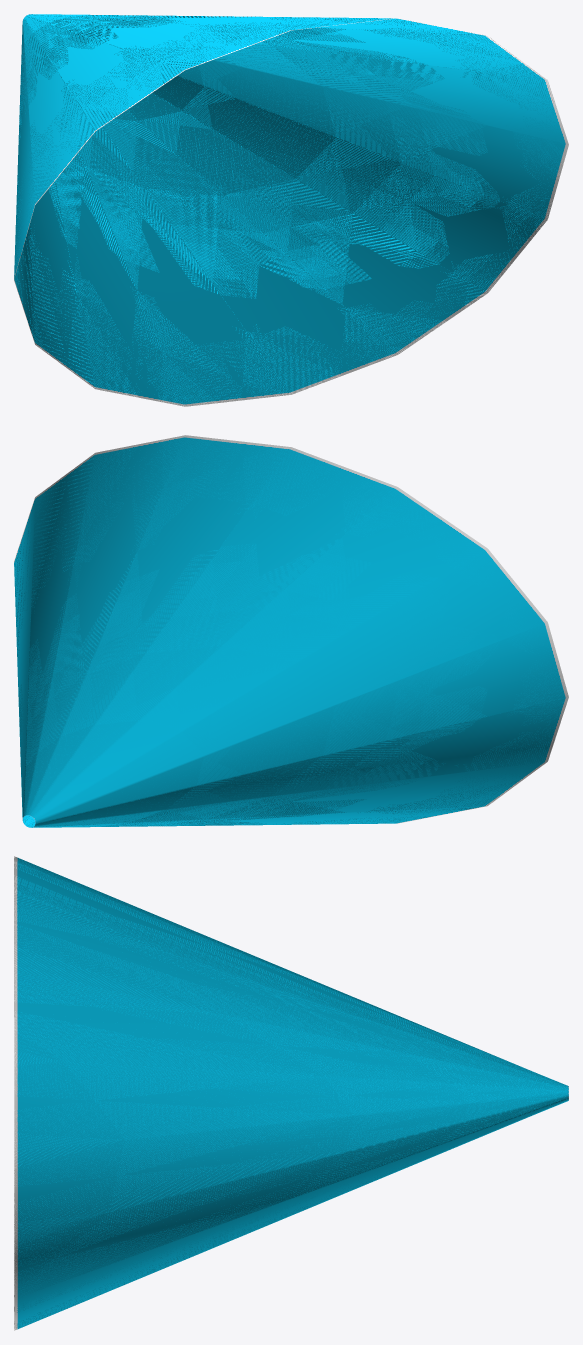
Rendered from Beam.fbx.
The picture shows the model from 3 angles, top to bottom: view 1: azimuth 30°, elevation 25°; view 2: azimuth 150°, elevation 25°; view 3: azimuth 270°, elevation 25°; orthographic projection. The views are drawn at different scales.
Visible parts, largest first — view 1: Cylinder; view 2: Cylinder; view 3: Cylinder.
Boxes of the visible parts, bbox=[...] form: Cylinder: bbox=[14, 14, 568, 406]; Cylinder: bbox=[14, 435, 568, 827]; Cylinder: bbox=[14, 856, 568, 1330].
Size of the model in its own units: 182 by 114 by 149.
